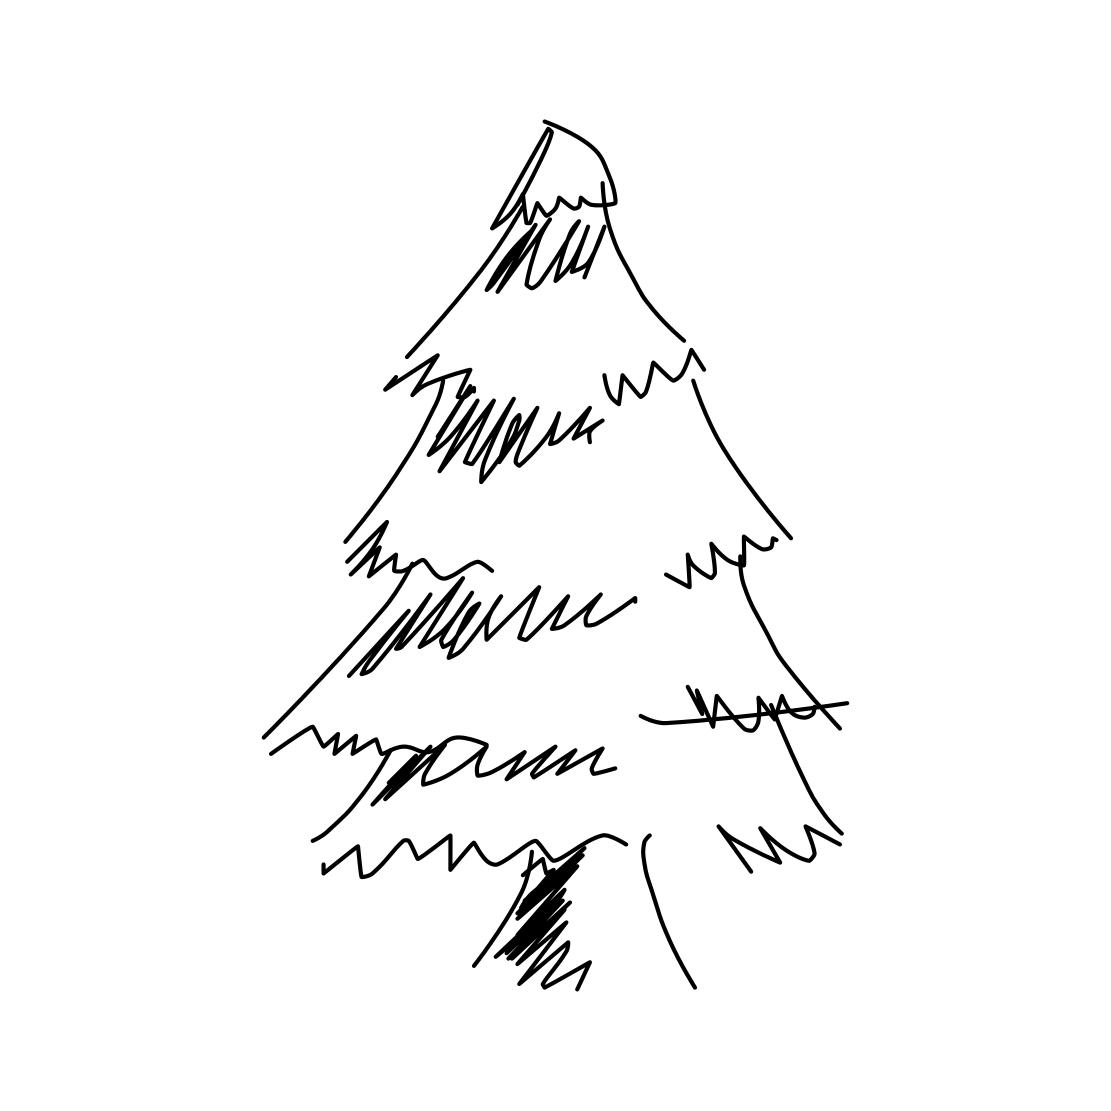Tree: (249, 93, 875, 1029)
